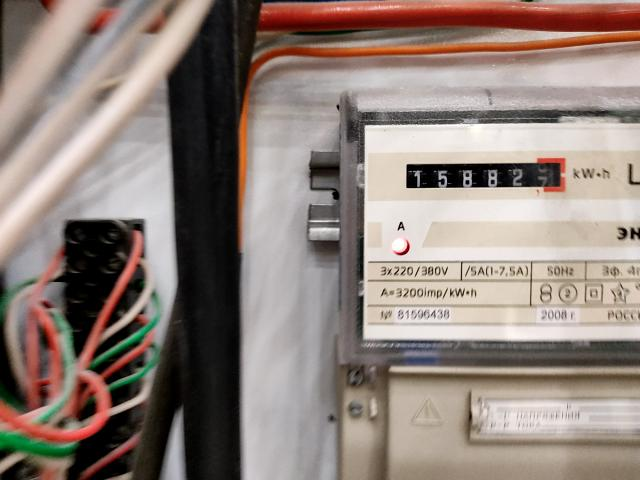1: (413, 169, 422, 187)
2: (512, 167, 524, 187)
5: (435, 169, 449, 188)
7: (536, 174, 548, 186)
8: (486, 167, 499, 188), (462, 168, 474, 188)
screen: (401, 156, 570, 196)
